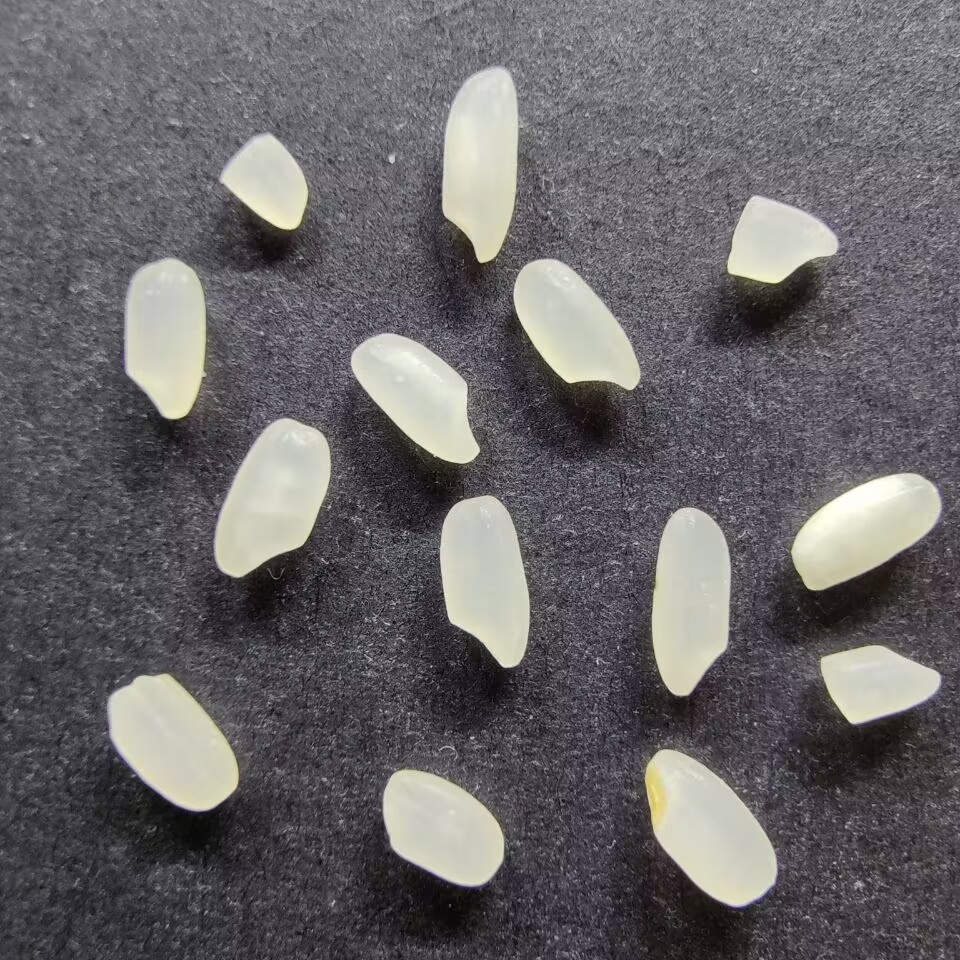broken: (725, 193, 838, 285), (818, 644, 942, 727), (217, 133, 309, 230)
rice: (642, 748, 778, 907), (104, 671, 241, 813), (213, 416, 332, 579), (788, 471, 942, 592), (348, 331, 482, 465), (512, 258, 641, 391), (438, 494, 530, 670), (439, 65, 519, 264), (651, 507, 732, 698), (379, 769, 506, 888), (122, 257, 205, 422)
